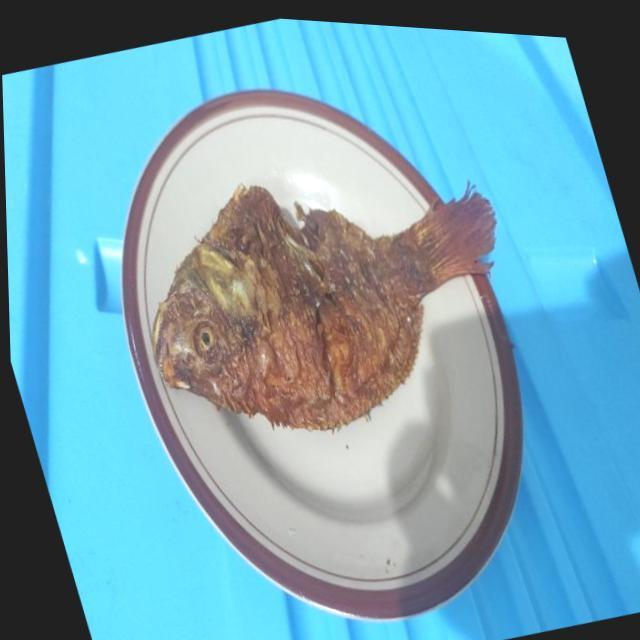ikan_mujair: (152, 183, 496, 430)
